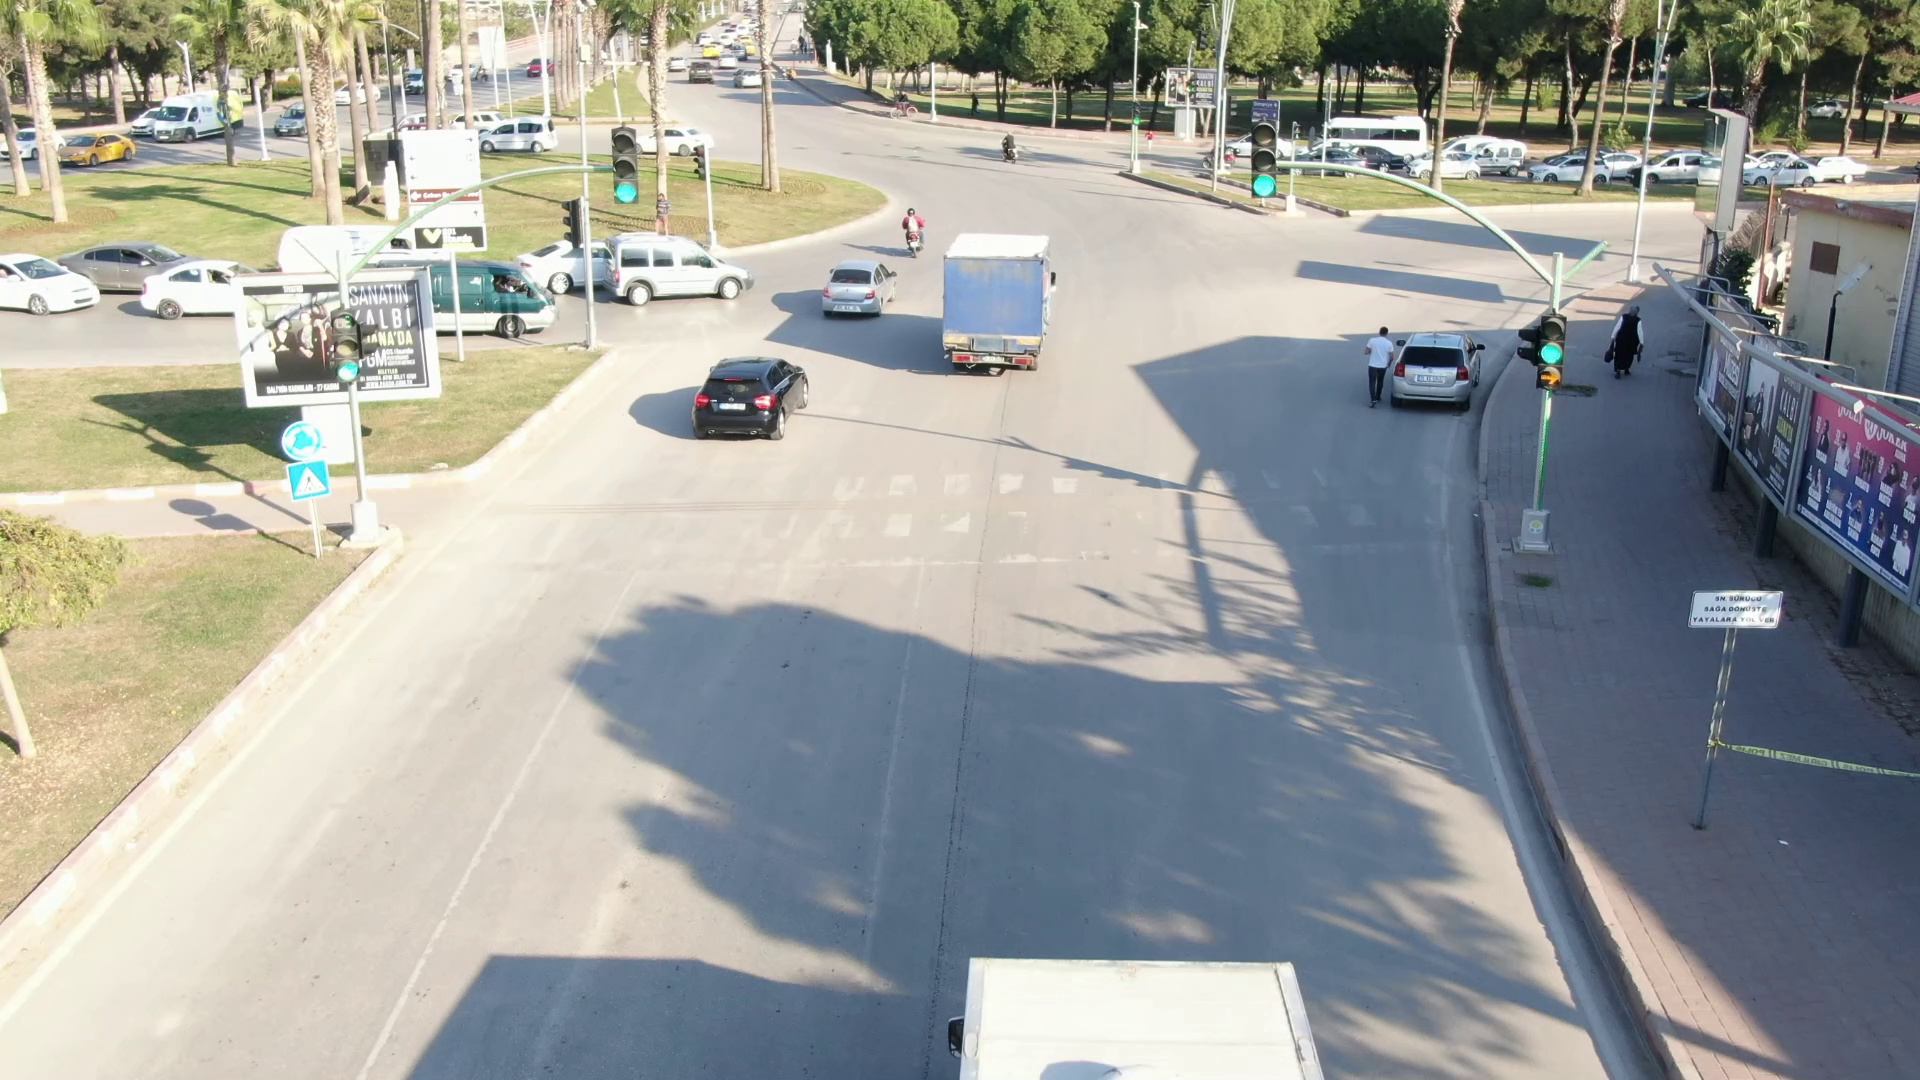car: (598, 226, 761, 312), (687, 344, 817, 448), (422, 250, 563, 343), (1, 250, 117, 326), (1395, 329, 1491, 414), (145, 81, 256, 147), (817, 250, 900, 325), (54, 119, 144, 170)
person: (1594, 293, 1653, 379), (1350, 314, 1396, 411)
